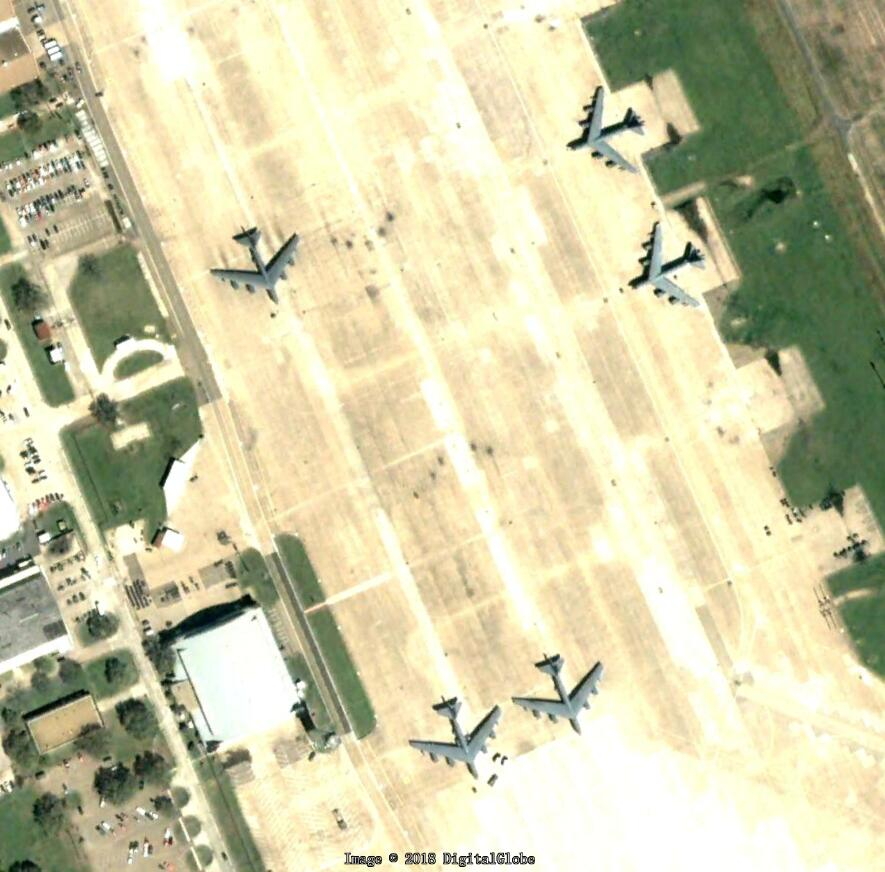A8: (403, 684, 505, 787), (613, 217, 713, 313), (509, 651, 615, 741), (567, 84, 652, 181), (213, 227, 302, 309)
